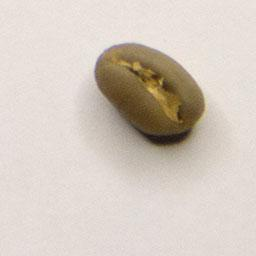peaberry: (90, 39, 209, 146)
